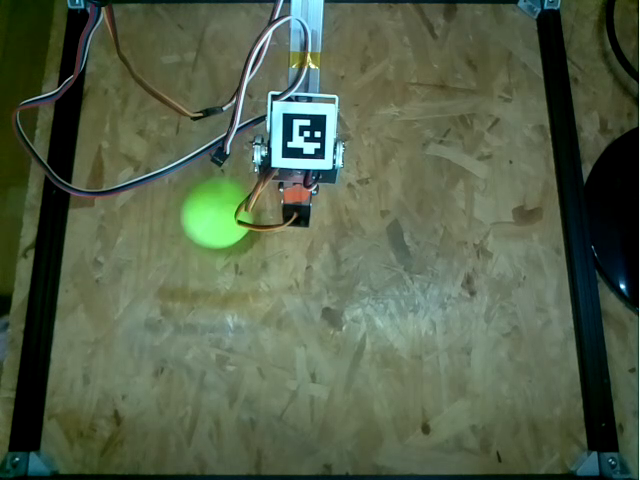tennis_ball: (180, 176, 254, 249)
